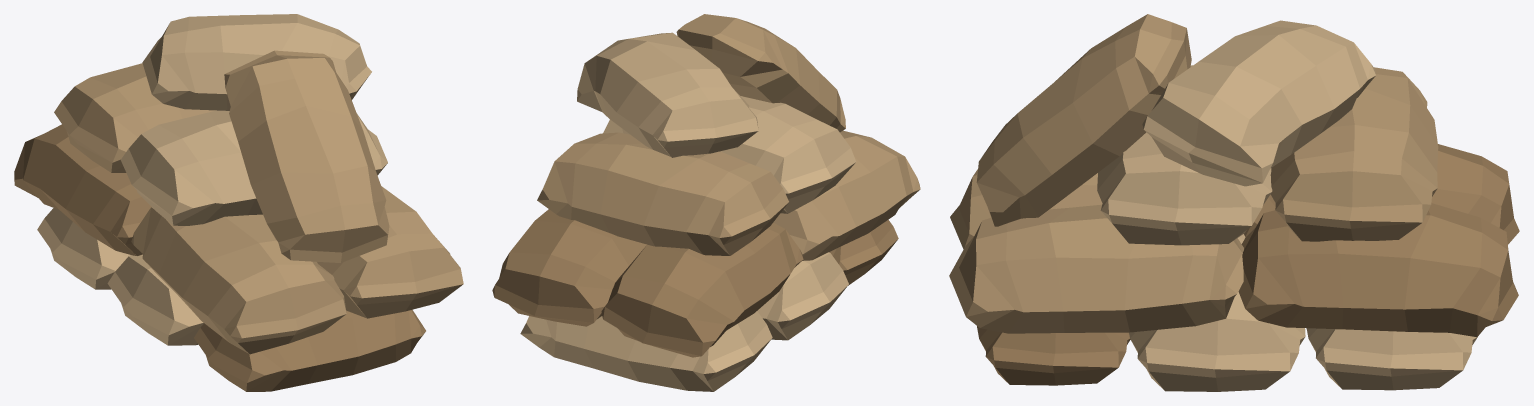
File: Prop_Sack_Stack_02.glb
The picture shows the model from 3 angles, left to right: view 1: azimuth 30°, elevation 25°; view 2: azimuth 150°, elevation 25°; view 3: azimuth 270°, elevation 25°; orthographic projection. The views are drawn at different scales.
Visible parts, largest first — view 1: SM_Gen_Prop_Sack_Stack_02; view 2: SM_Gen_Prop_Sack_Stack_02; view 3: SM_Gen_Prop_Sack_Stack_02.
Boxes of the visible parts, <box> form: SM_Gen_Prop_Sack_Stack_02: <box>14,14,463,391</box>; SM_Gen_Prop_Sack_Stack_02: <box>492,14,920,391</box>; SM_Gen_Prop_Sack_Stack_02: <box>949,14,1519,391</box>.
Size of the model in its own units: 0.7531 by 0.8009 by 1.29.
1 material, 1 textured.
